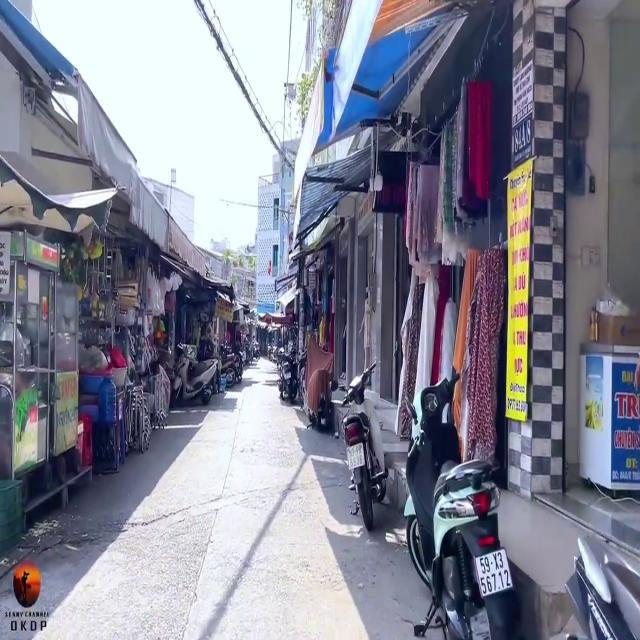bien_trang: (475, 554, 519, 597), (342, 442, 368, 469)
